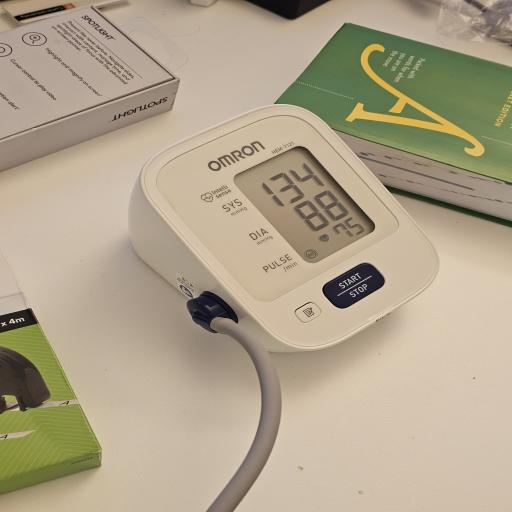lcd display: (230, 146, 380, 266)
